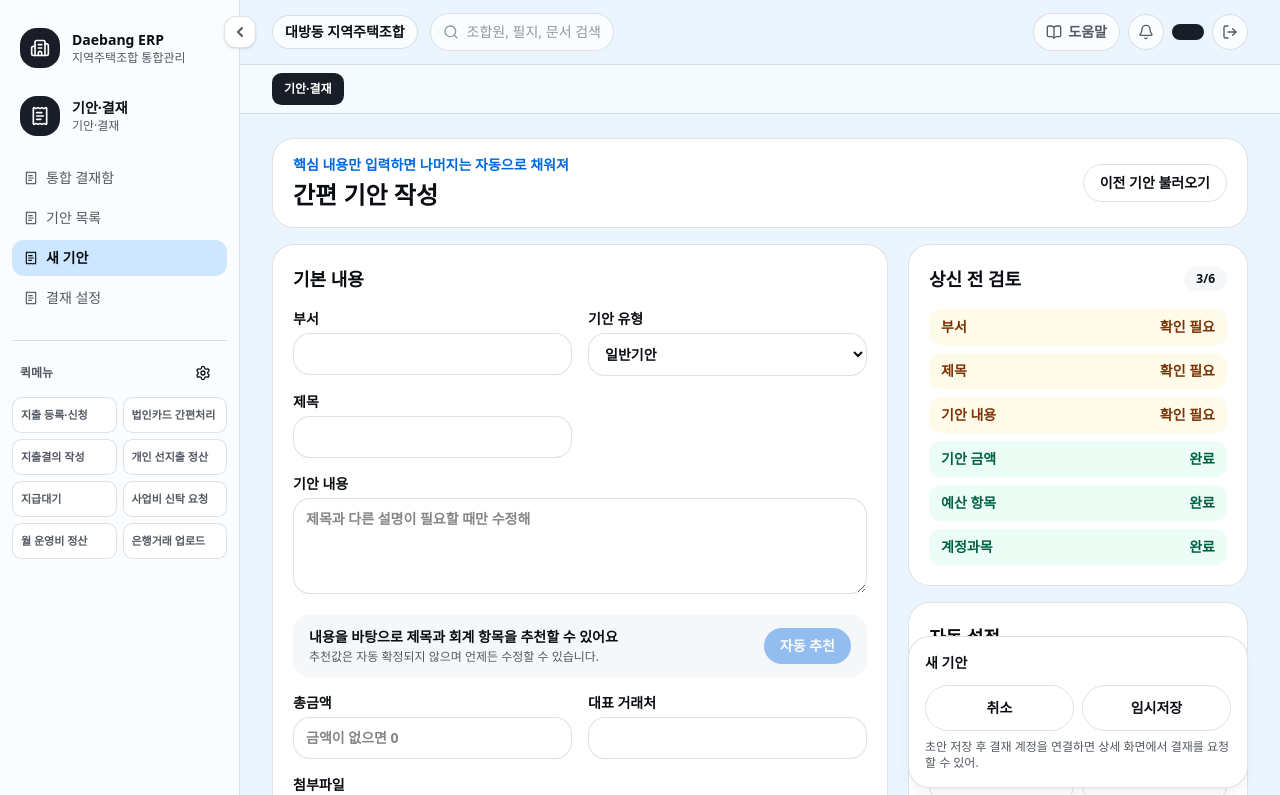
Scenario: ApprovalNewPage › applies title, account subject, and budget recommendations after confirmation
The width and height of the screenshot is (1280, 795).
Select "지출품의" in the dropdown labelled "기안 유형" at (728, 354), box [588,333,867,376]
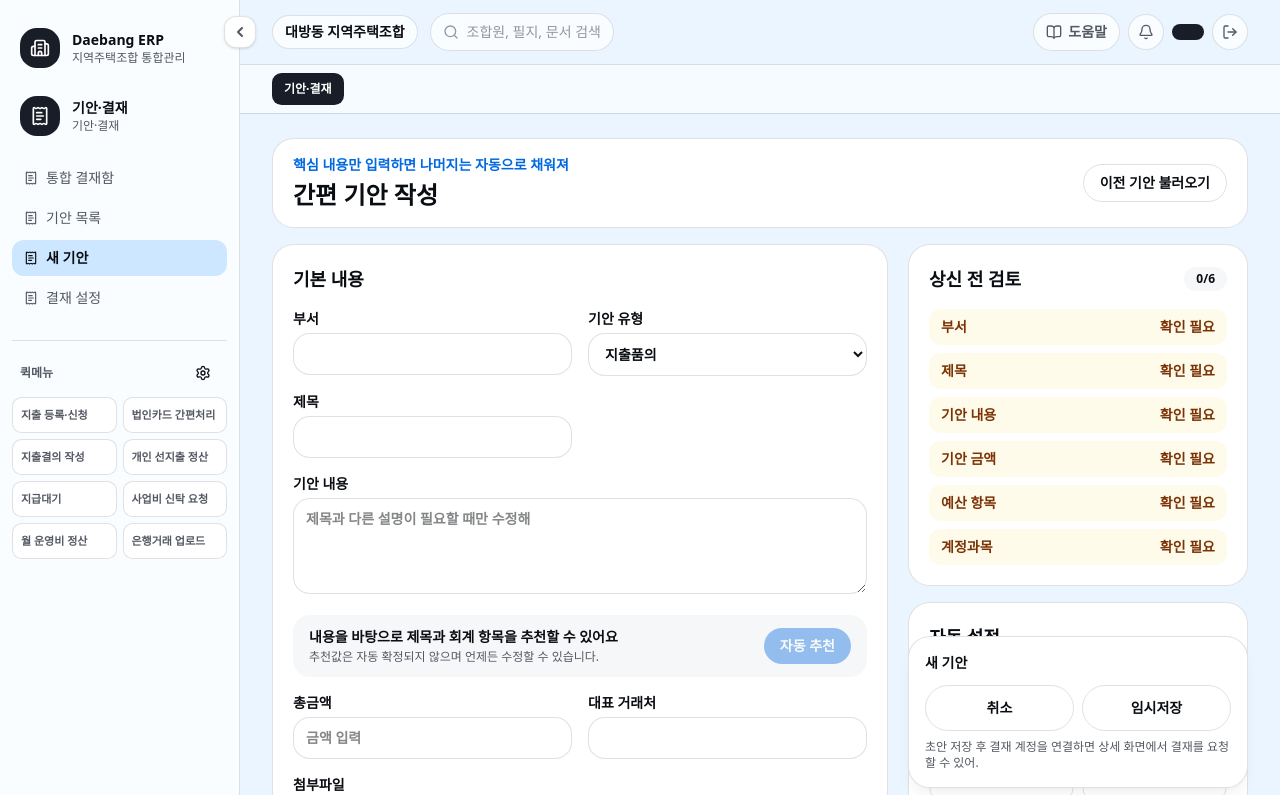
Type "운영위원회 회의용 음료 8잔 주문" into the text box labelled "기안 내용" at (580, 546), box [293,498,867,594]
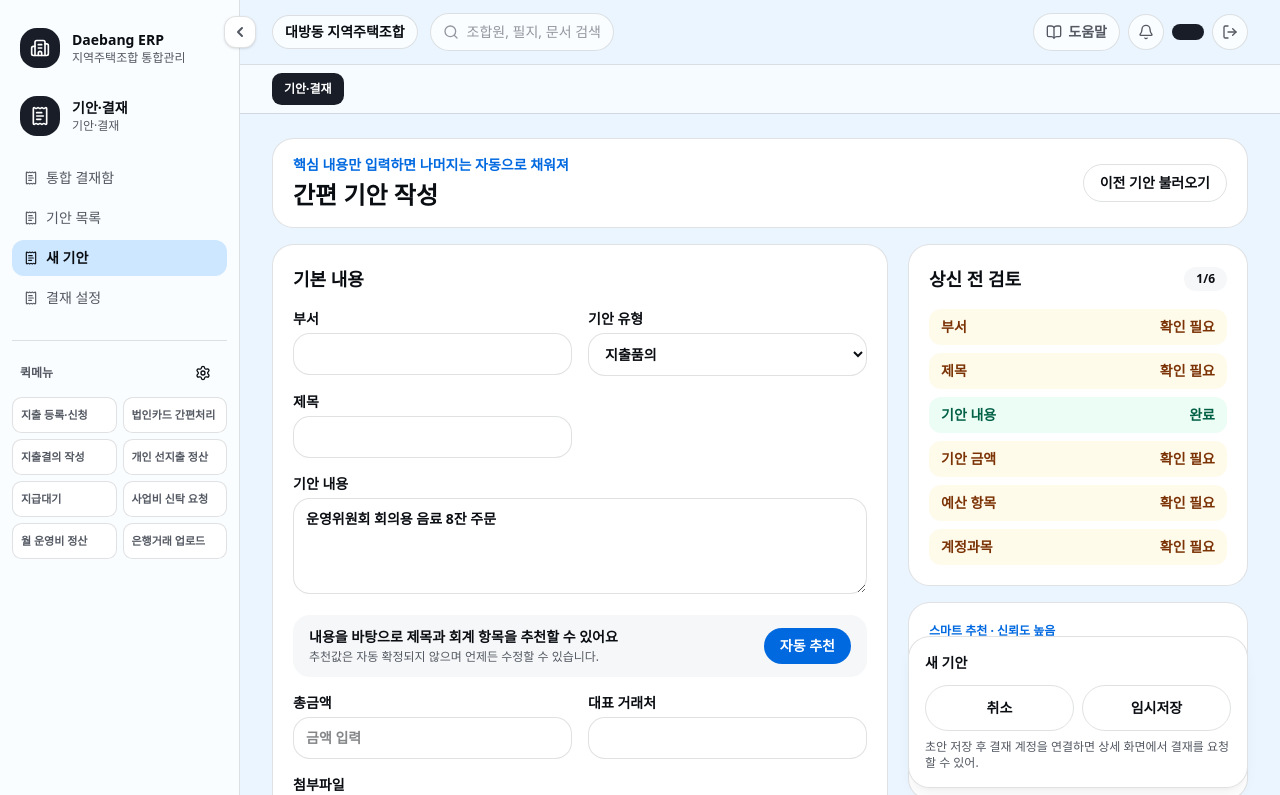
Click the button "자동 추천" at (807, 646), box [764,628,851,664]
(page scrolled)
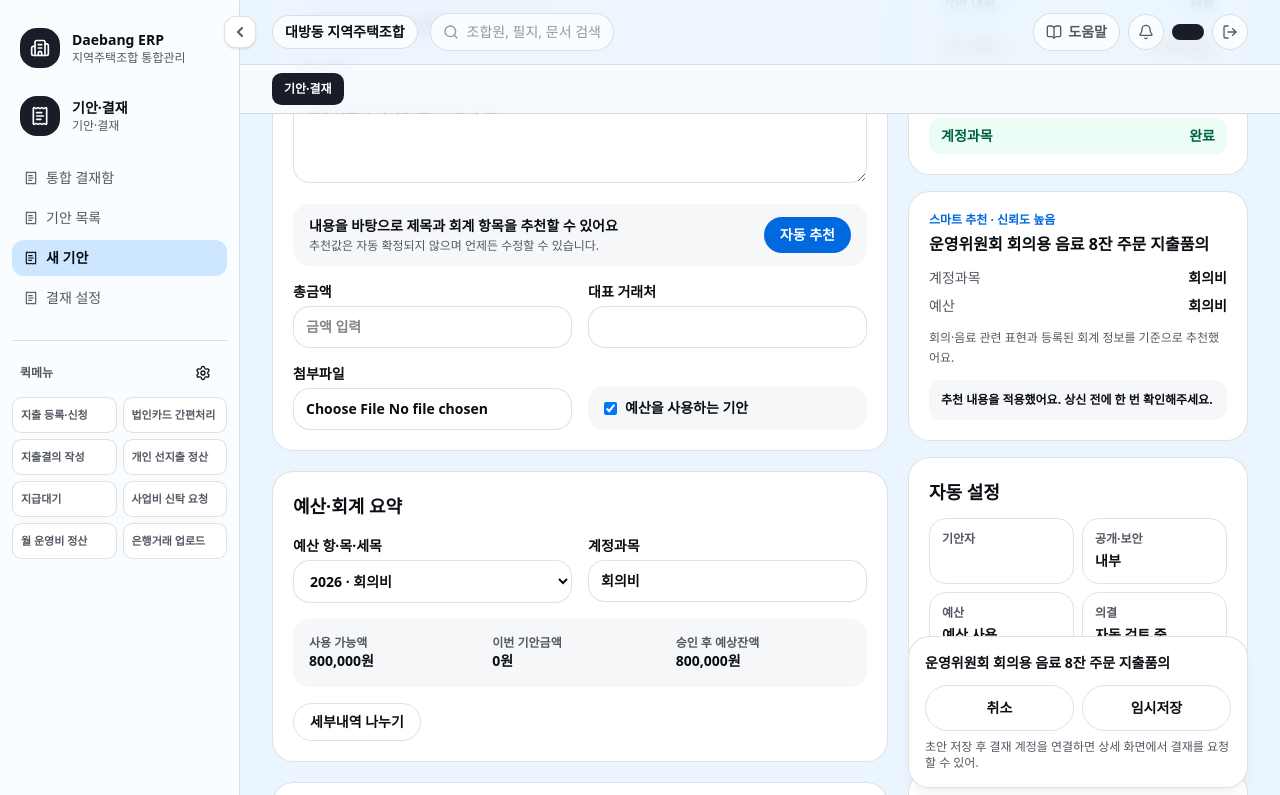
Now the field labelled "계정과목" holds "회의비", box [588,560,867,602]
Now the dropdown labelled "예산 항·목·세목" shows "2026 · 회의비", box [293,560,572,603]
Now the text "추천 내용을 적용했어요. 상신 전에 한 번 확인해주세요." is shown, box [929,380,1227,420]
